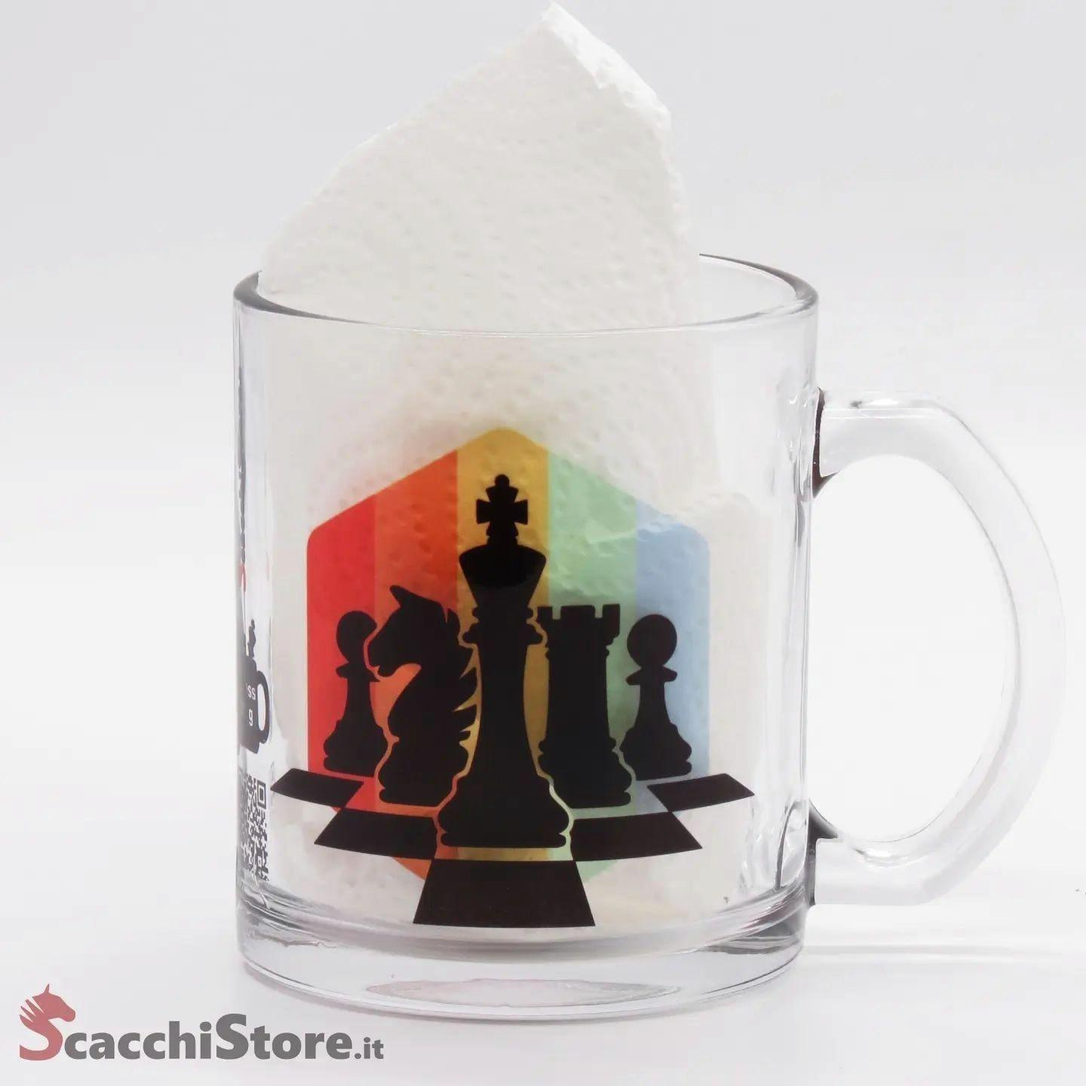glass-mug: (201, 213, 1066, 1021)
